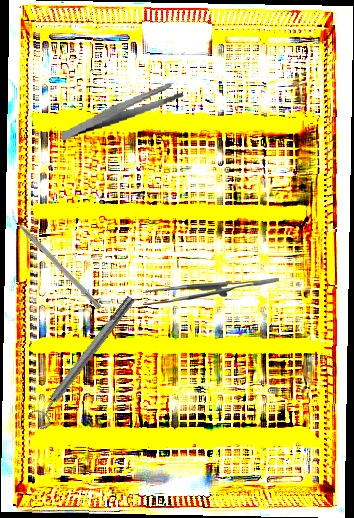Chopper: (6, 206, 107, 310)
Dressing Forceps: (56, 81, 188, 142)
Fixation Ring: (24, 291, 143, 432)
Tissue Forceps: (143, 278, 279, 305)
